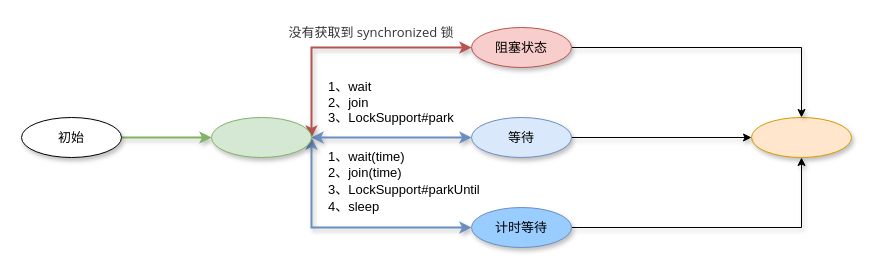
The diagram is 875 pixels wide and 272 high, and some of its shapes have lost their labels. The centre of each missing label's shape, as x and y in pixels:
"终止" belongs at point 802,138.
"运行" belongs at point 262,138.
